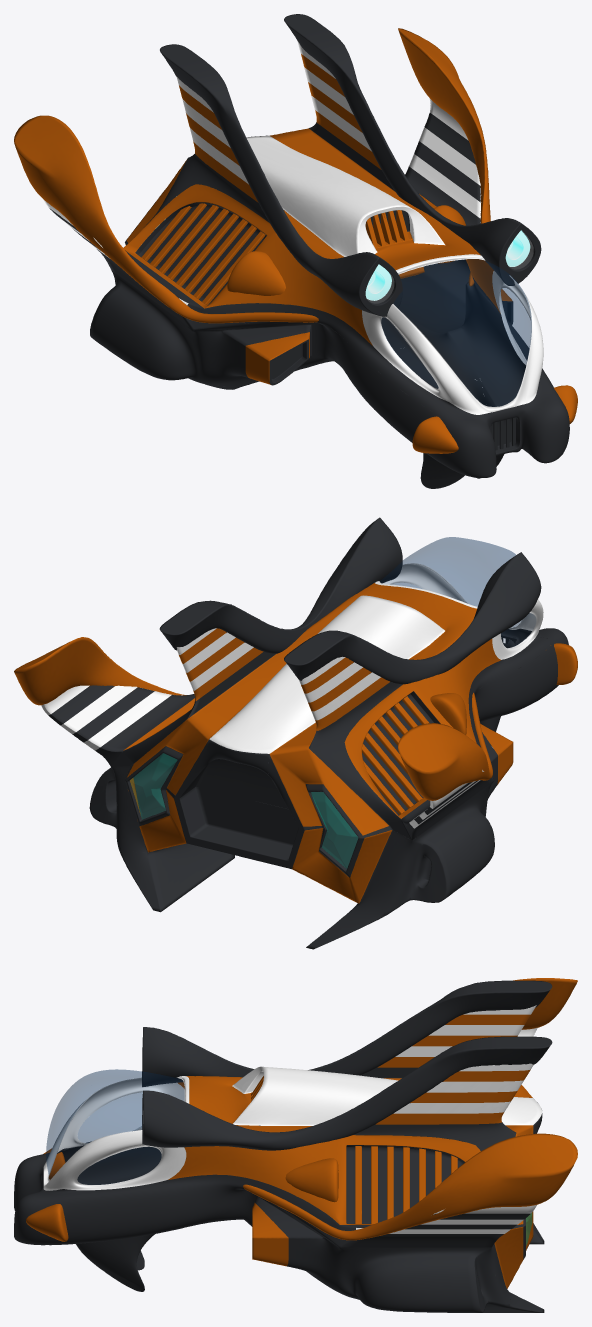
File: escolta.glb
3 views of the same model, one above another, from view 1: azimuth 30°, elevation 25°; view 2: azimuth 150°, elevation 25°; view 3: azimuth 270°, elevation 25° (orthographic). The views are drawn at different scales.
Parts seen in each view (by area): view 1: Cube; view 2: Cube; view 3: Cube.
Boxes of the visible parts, box(x1,y1,x2,y2) form: Cube: box(14, 14, 577, 488); Cube: box(14, 517, 577, 949); Cube: box(14, 978, 577, 1312).
Size of the model in its own units: 4.01 by 2.63 by 5.04.
